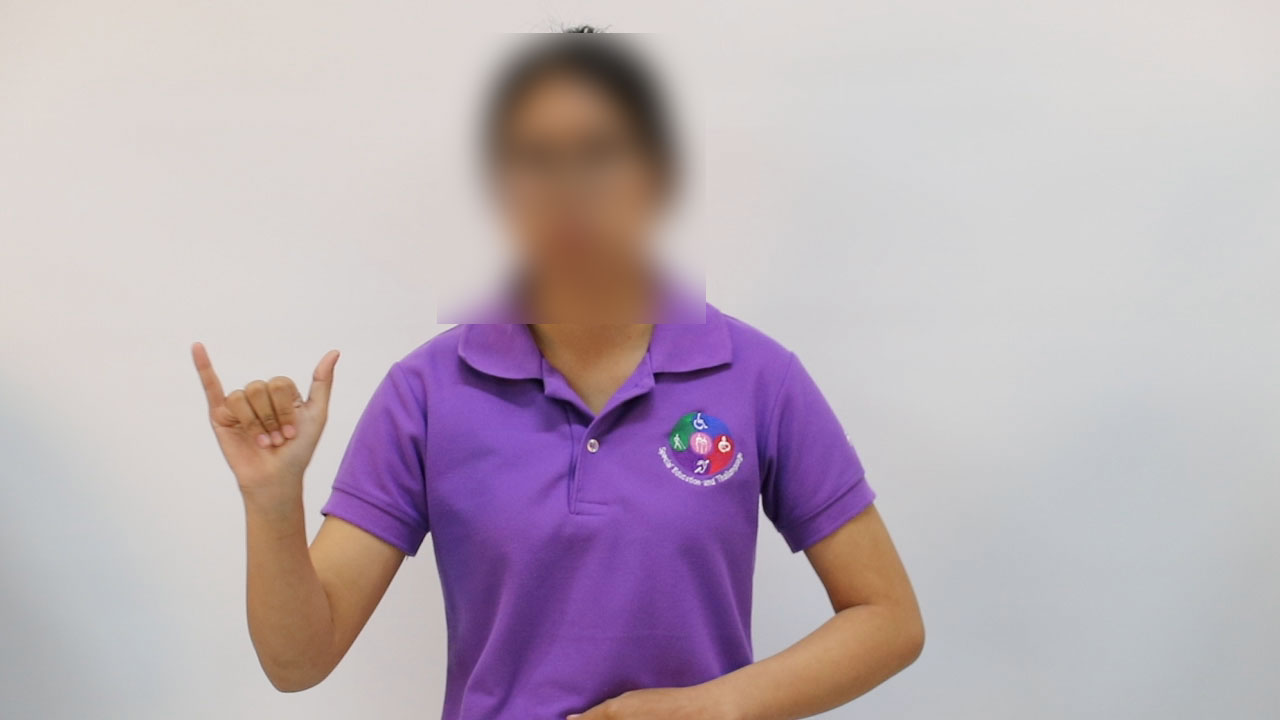yor: (179, 328, 348, 502)
